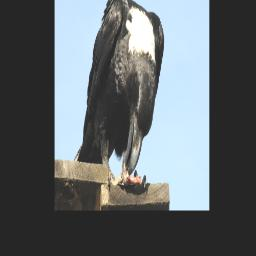Crow: (73, 0, 166, 192)
